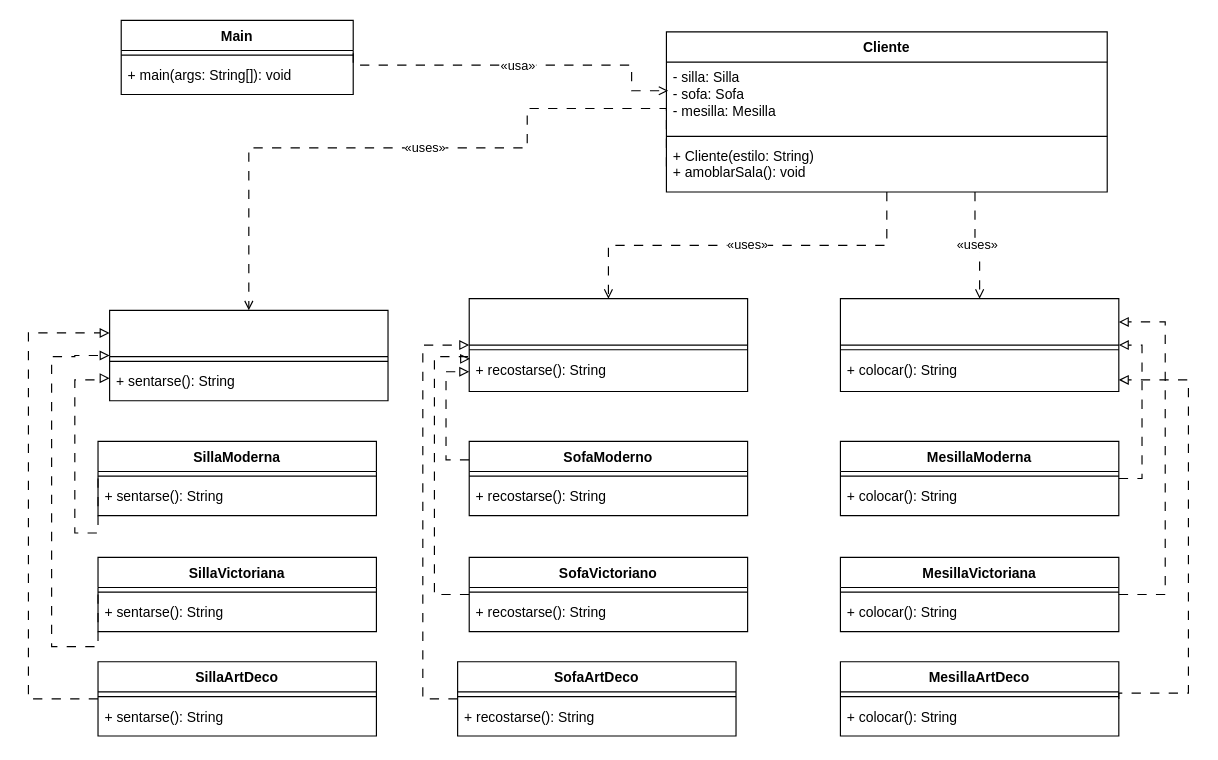
Image size: 1218x760. Some labels were removed from this diagram. The box of each missing label's shape, as (x1, y1, x2, y2) in pixels:
<<interface>> Mesilla: (839, 298, 1119, 392)
<<interface>> Silla: (108, 309, 388, 401)
<<interface>> Sofa: (468, 298, 748, 392)
